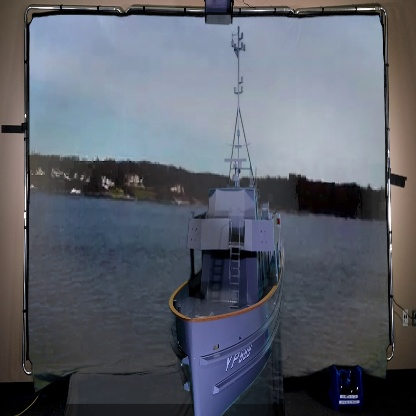YP689: (164, 27, 287, 416)
